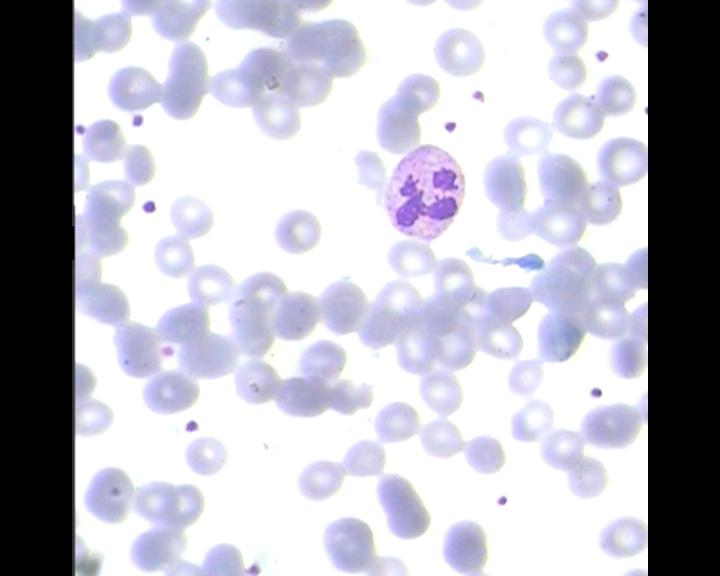neut: (379, 139, 467, 242)
